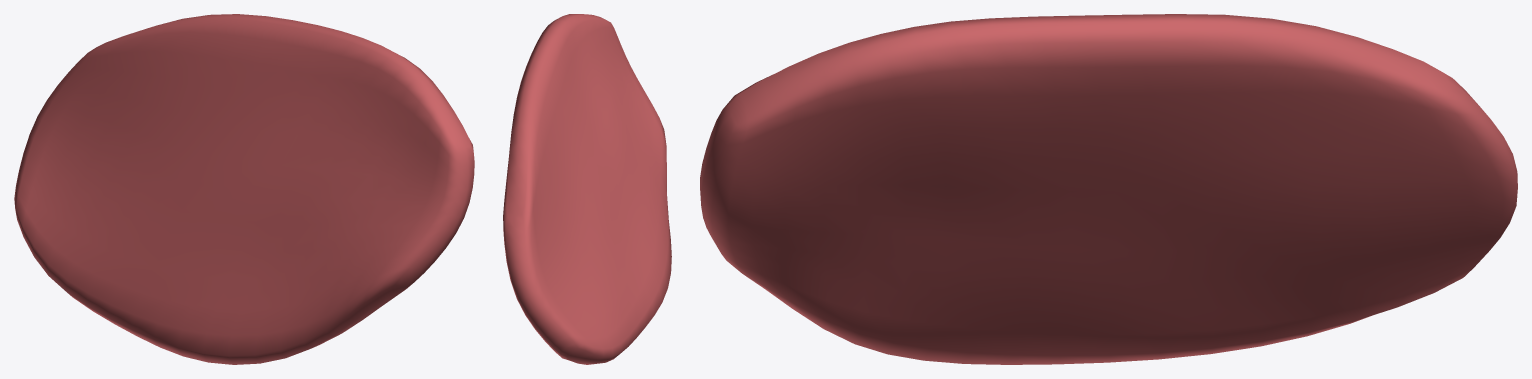
The picture shows the model from 3 angles, left to right: view 1: azimuth 30°, elevation 25°; view 2: azimuth 150°, elevation 25°; view 3: azimuth 270°, elevation 25°; orthographic projection. The views are drawn at different scales.
Visible parts, largest first — view 1: 右侧鹅足囊; view 2: 右侧鹅足囊; view 3: 右侧鹅足囊.
Boxes of the visible parts, left/top/right/bottom form: 右侧鹅足囊: left=14, top=14, right=474, bottom=364; 右侧鹅足囊: left=503, top=14, right=671, bottom=364; 右侧鹅足囊: left=700, top=14, right=1517, bottom=364.
Size of the model in its own units: 0.0206 by 0.0253 by 0.0414.
